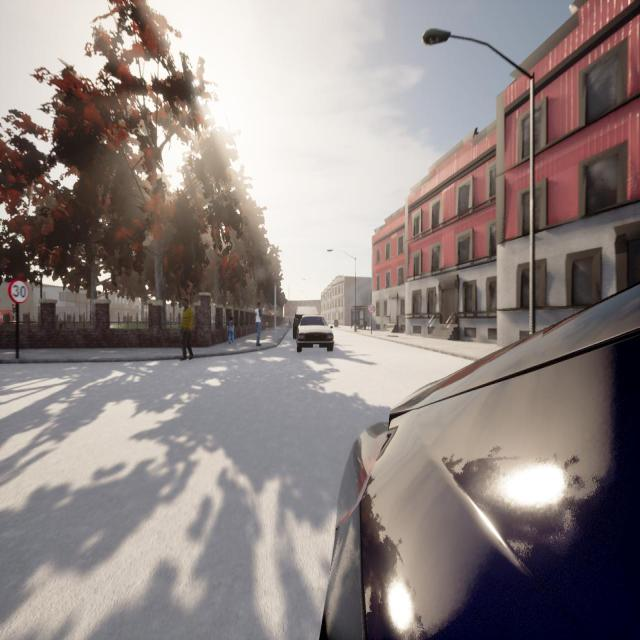Pedestrian: (180, 299, 193, 360), (254, 302, 262, 346), (227, 316, 235, 344), (265, 320, 269, 335)
Traffic_Signs: (8, 280, 28, 304), (368, 303, 375, 314)
Vehicle: (321, 285, 639, 638), (296, 316, 334, 352), (292, 305, 318, 339)
traffic_light: (12, 304, 16, 314)
